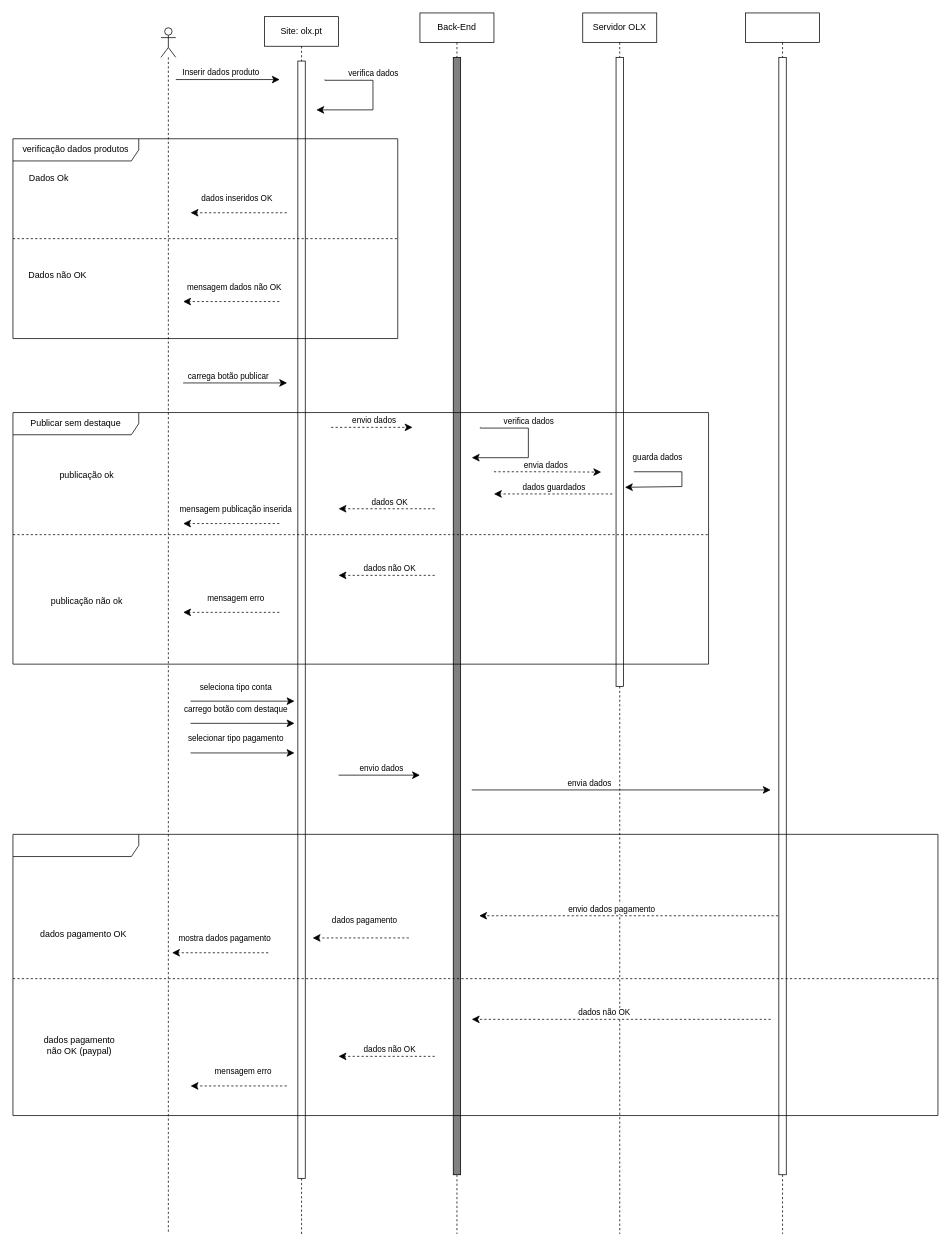
This 951x1247 diagram has some shape labels left out. Each missing label, with the box of its shape:
Publicar com destaque: (12, 834, 938, 1116)
Servidor Externo: (745, 12, 820, 1234)
